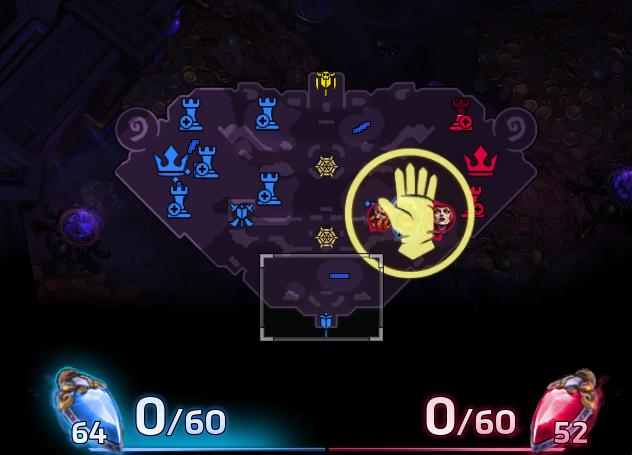blue nexus: (152, 141, 196, 176)
blue tower: (166, 177, 192, 219), (192, 142, 220, 179), (177, 96, 204, 132), (254, 95, 280, 131), (256, 170, 282, 205)
red nexus: (462, 144, 499, 176)
red player: (365, 200, 391, 232), (430, 201, 455, 233)
red tower: (447, 96, 473, 131), (460, 184, 485, 218)
